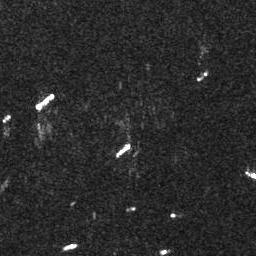ship: (33, 92, 54, 111), (116, 141, 130, 158), (61, 242, 78, 251), (243, 169, 256, 179), (3, 113, 11, 124), (159, 247, 169, 255)
